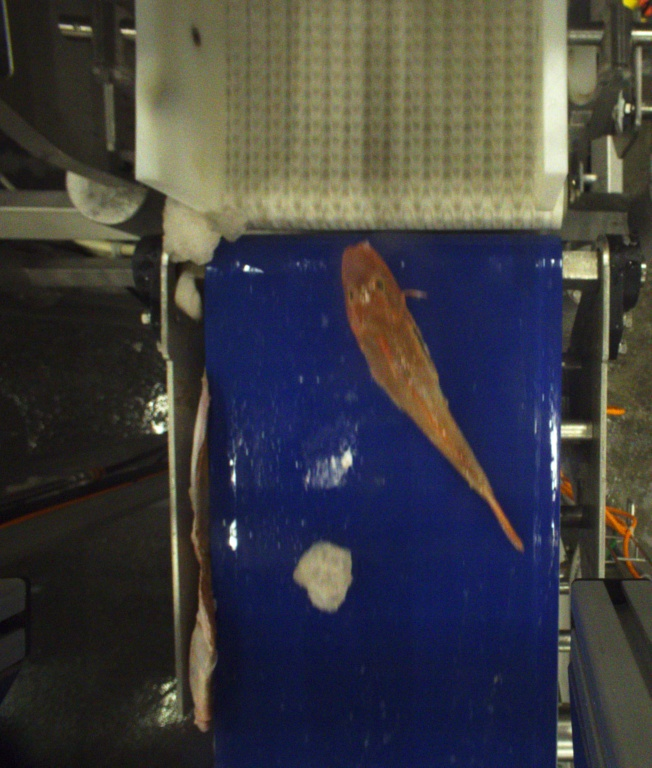GUU: (340, 241, 526, 552)
